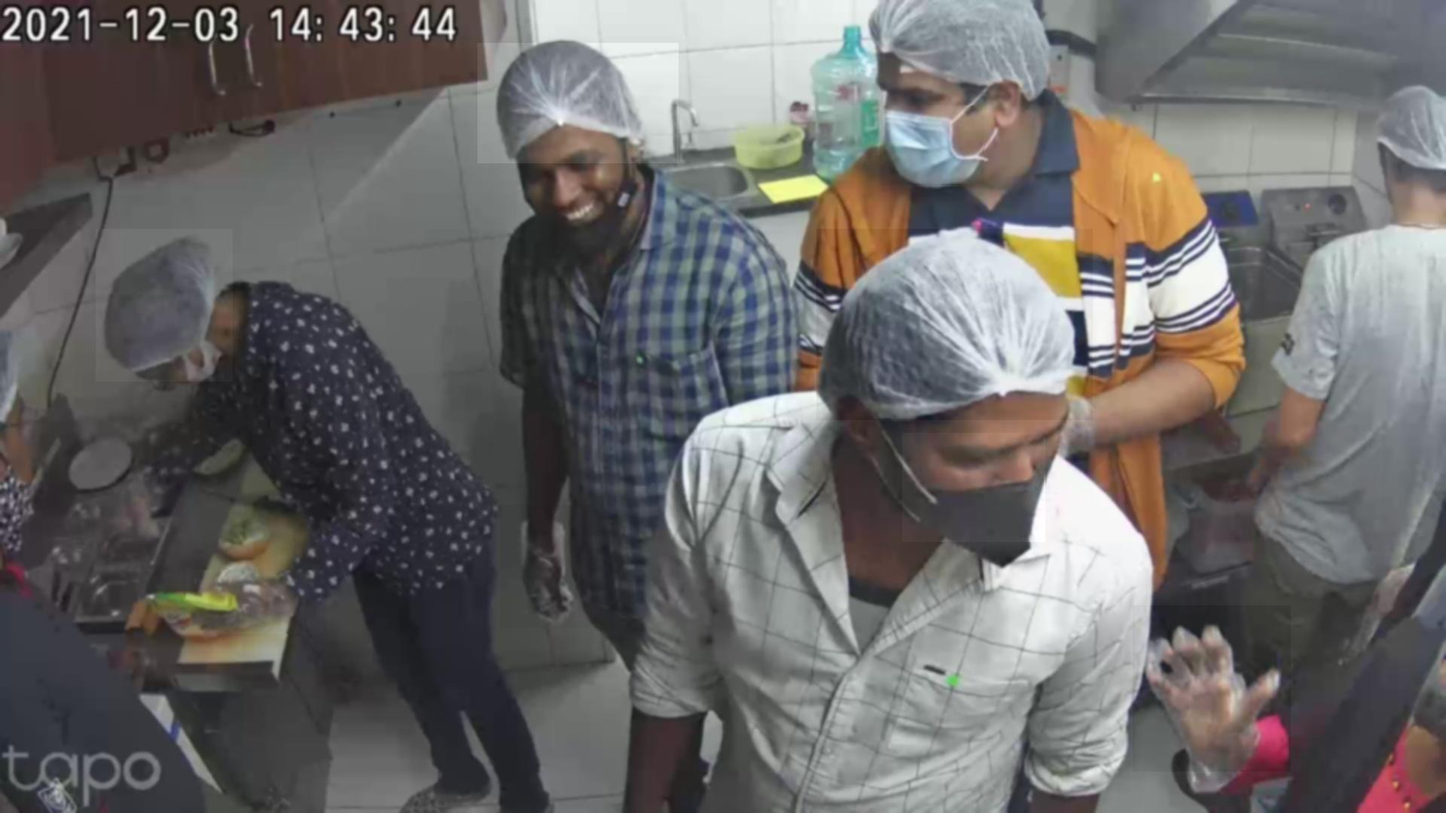apron: (1133, 606, 1291, 772), (500, 505, 593, 628), (186, 571, 323, 635)
gloves: (817, 229, 1093, 420), (477, 44, 679, 164), (849, 0, 1071, 105), (96, 229, 233, 382), (1359, 71, 1446, 201)
hairnet: (517, 130, 639, 251)
mask: (893, 434, 1046, 568), (880, 91, 985, 186)
